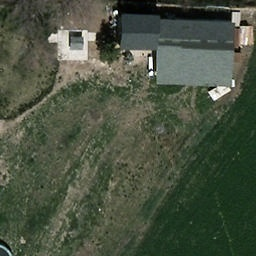car: (206, 79, 239, 102)
